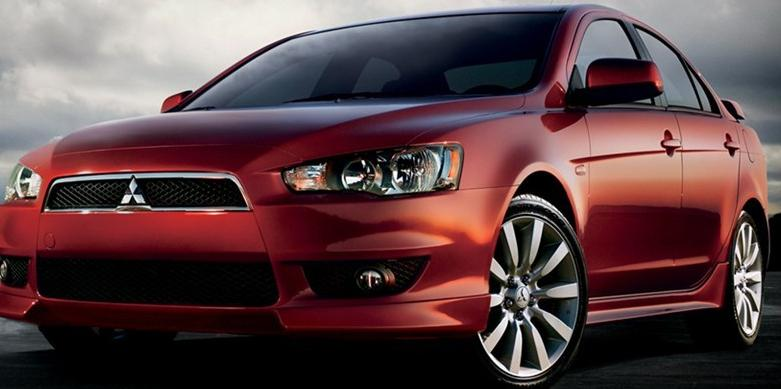front_view: (3, 146, 506, 365)
headlight: (270, 126, 470, 225)
side_glass: (535, 8, 747, 115)
